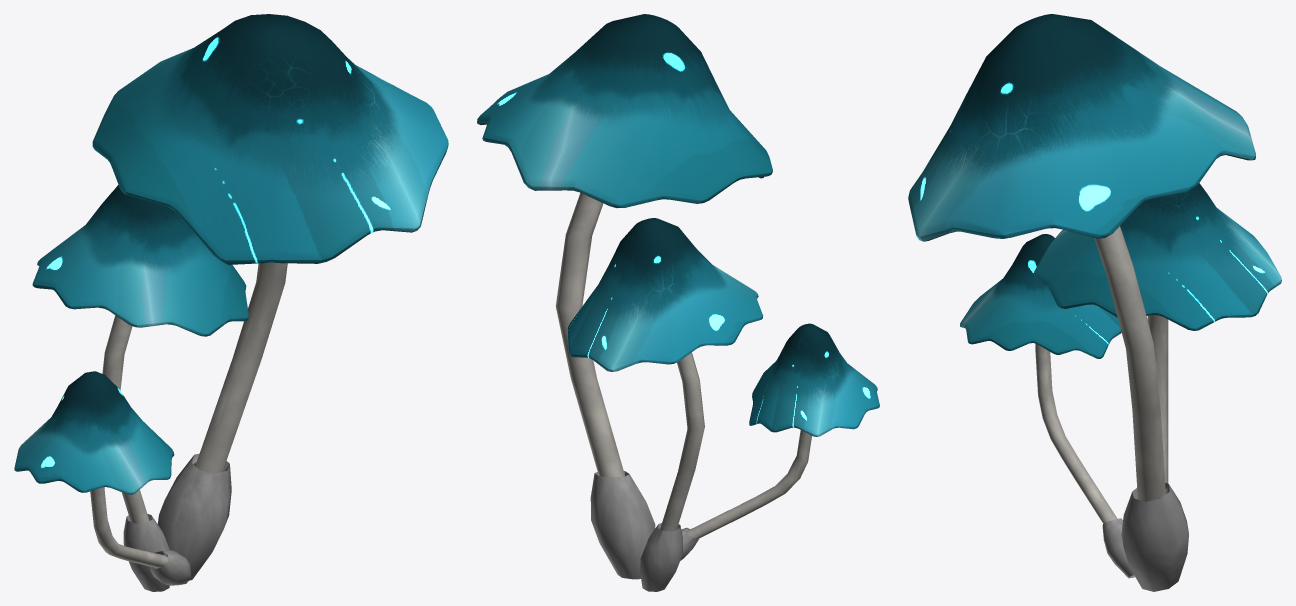
Rendered from mushroom.gltf.
The picture shows the model from 3 angles, left to right: view 1: azimuth 30°, elevation 25°; view 2: azimuth 150°, elevation 25°; view 3: azimuth 270°, elevation 25°; orthographic projection. The views are drawn at different scales.
Visible parts, largest first — view 1: pCone4, pCone2, pCone3; view 2: pCone4, pCone2, pCone3; view 3: pCone4, pCone2, pCone3.
Boxes of the visible parts, box(x1,y1,x2,y2) form: pCone4: box(92, 14, 448, 580); pCone2: box(32, 185, 248, 591); pCone3: box(14, 371, 191, 585); pCone4: box(477, 14, 772, 579); pCone2: box(567, 218, 763, 591); pCone3: box(680, 323, 879, 560); pCone4: box(908, 14, 1255, 591); pCone2: box(1034, 183, 1281, 483); pCone3: box(960, 234, 1134, 578).
Bounding box in the file's own units: 5.28 × 7.16 × 4.11.
Materials: 1 (1 with a texture image).
